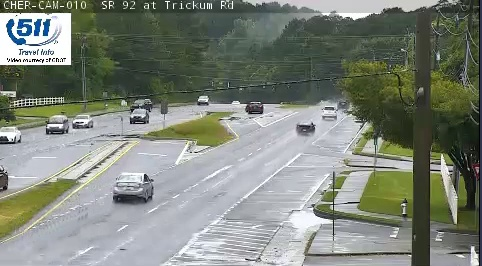car: (114, 173, 154, 196), (296, 120, 315, 136), (322, 106, 336, 118)
